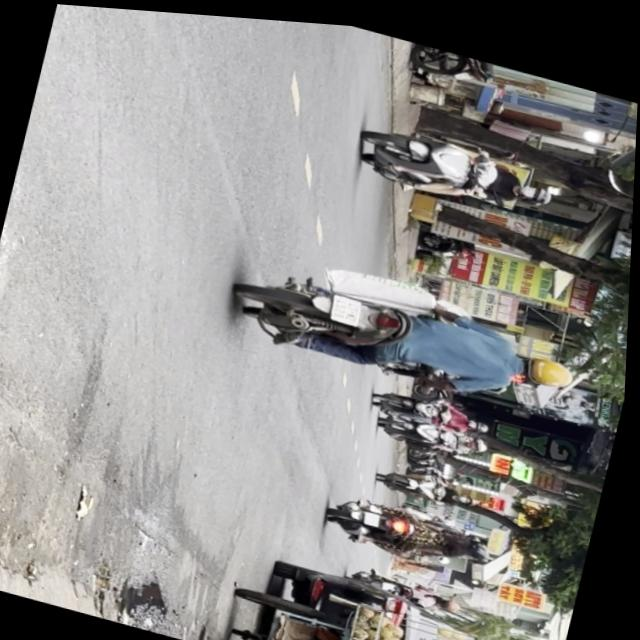helmet: (518, 342, 580, 384), (515, 172, 555, 199)
licenseplate: (227, 235, 590, 416), (351, 110, 562, 217)
nohelmet: (331, 288, 366, 321)
